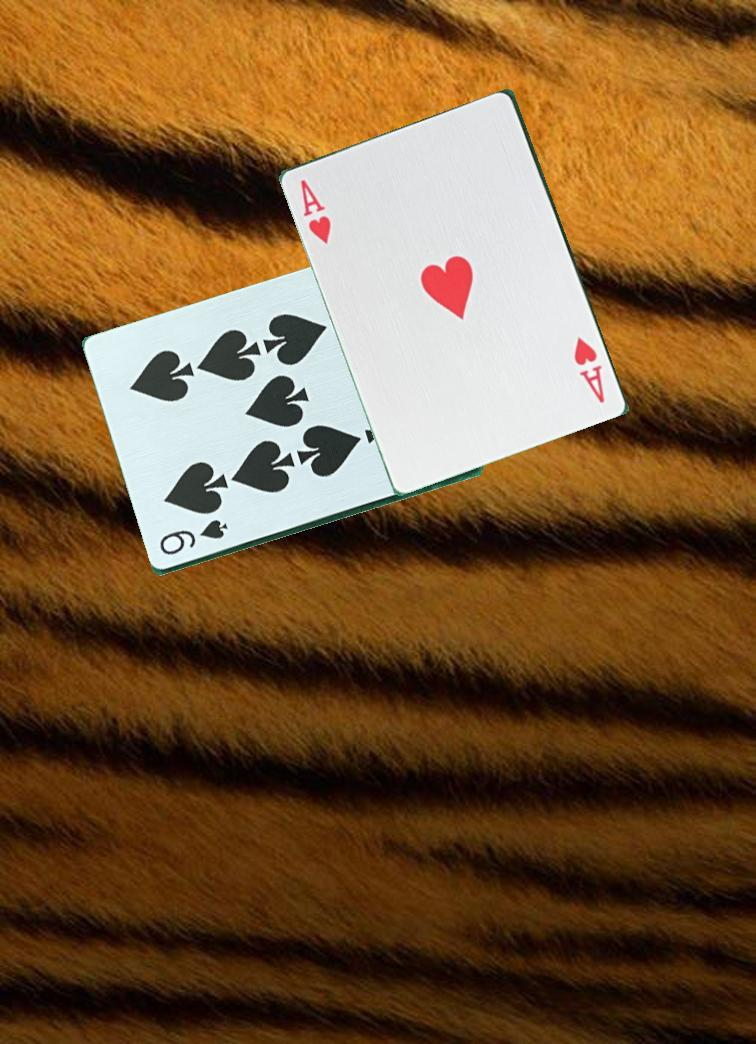9s: (155, 518, 231, 559)
ah: (569, 333, 608, 406), (296, 175, 334, 248)
